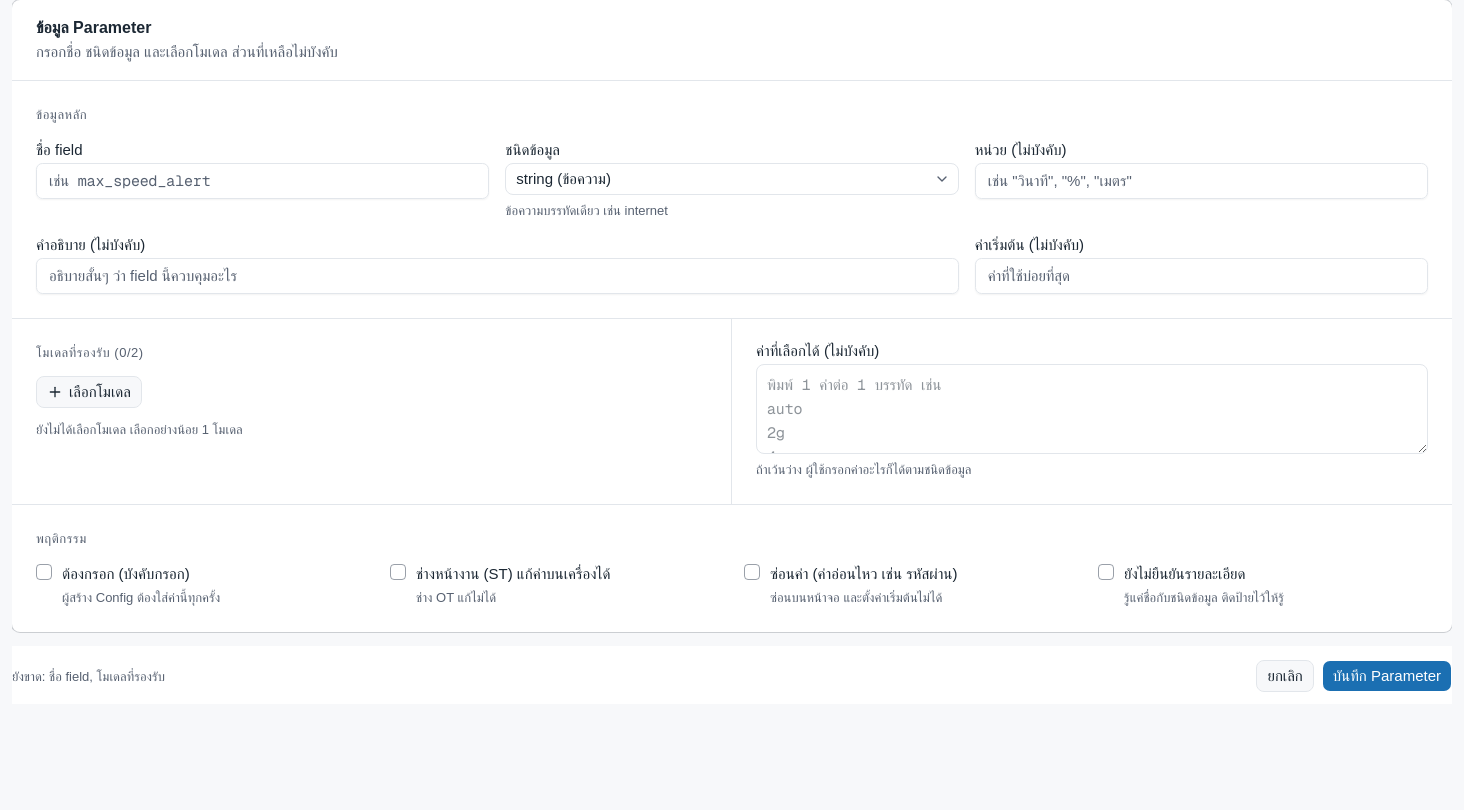
Scenario: ParameterCreateForm › requires at least one model and rejects duplicate names
Type "APN1" into the field labelled "ชื่อ field" at (263, 181), box [36,163,489,199]
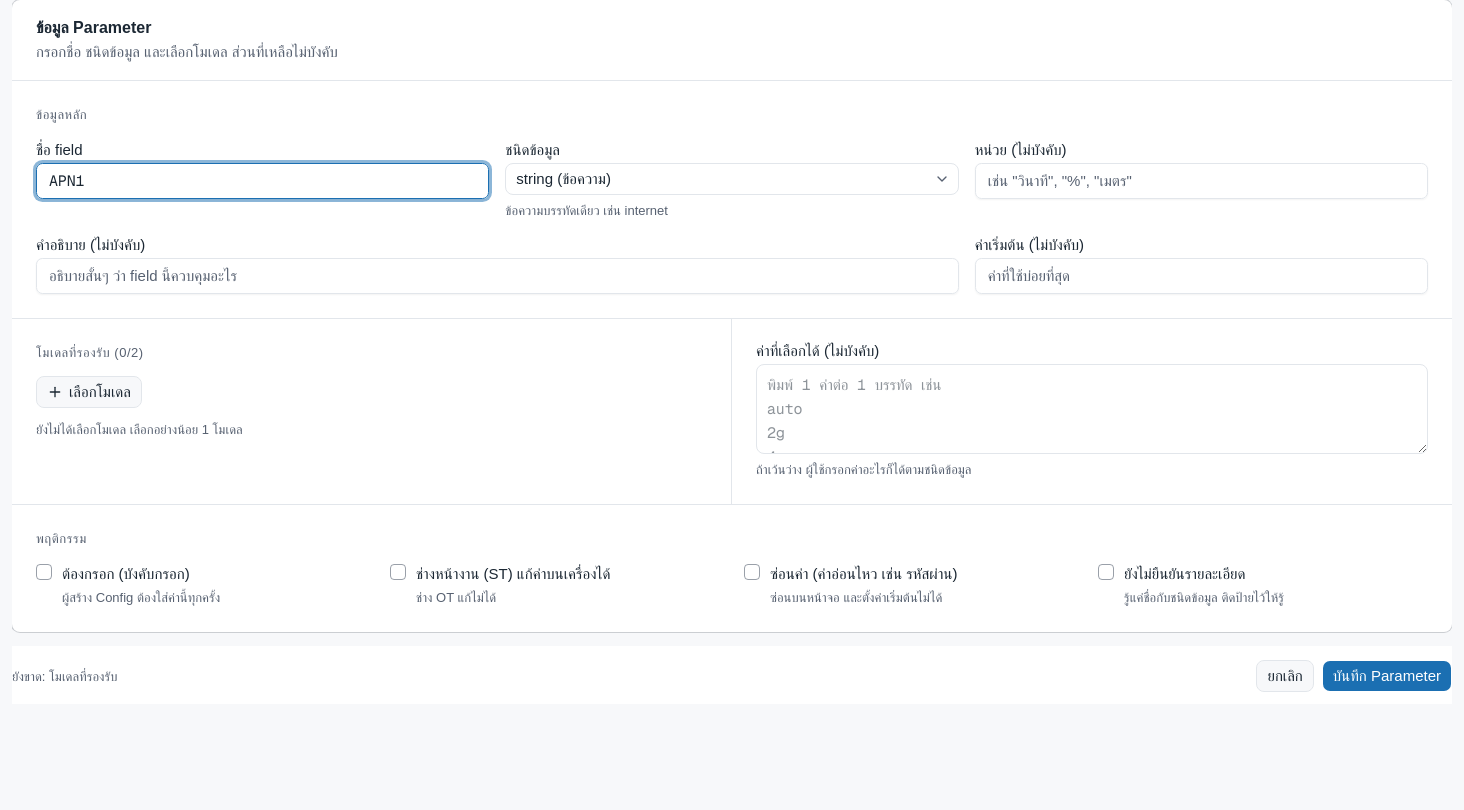
Click the button "บันทึก Parameter" at (1387, 676), box [1322,660,1452,692]
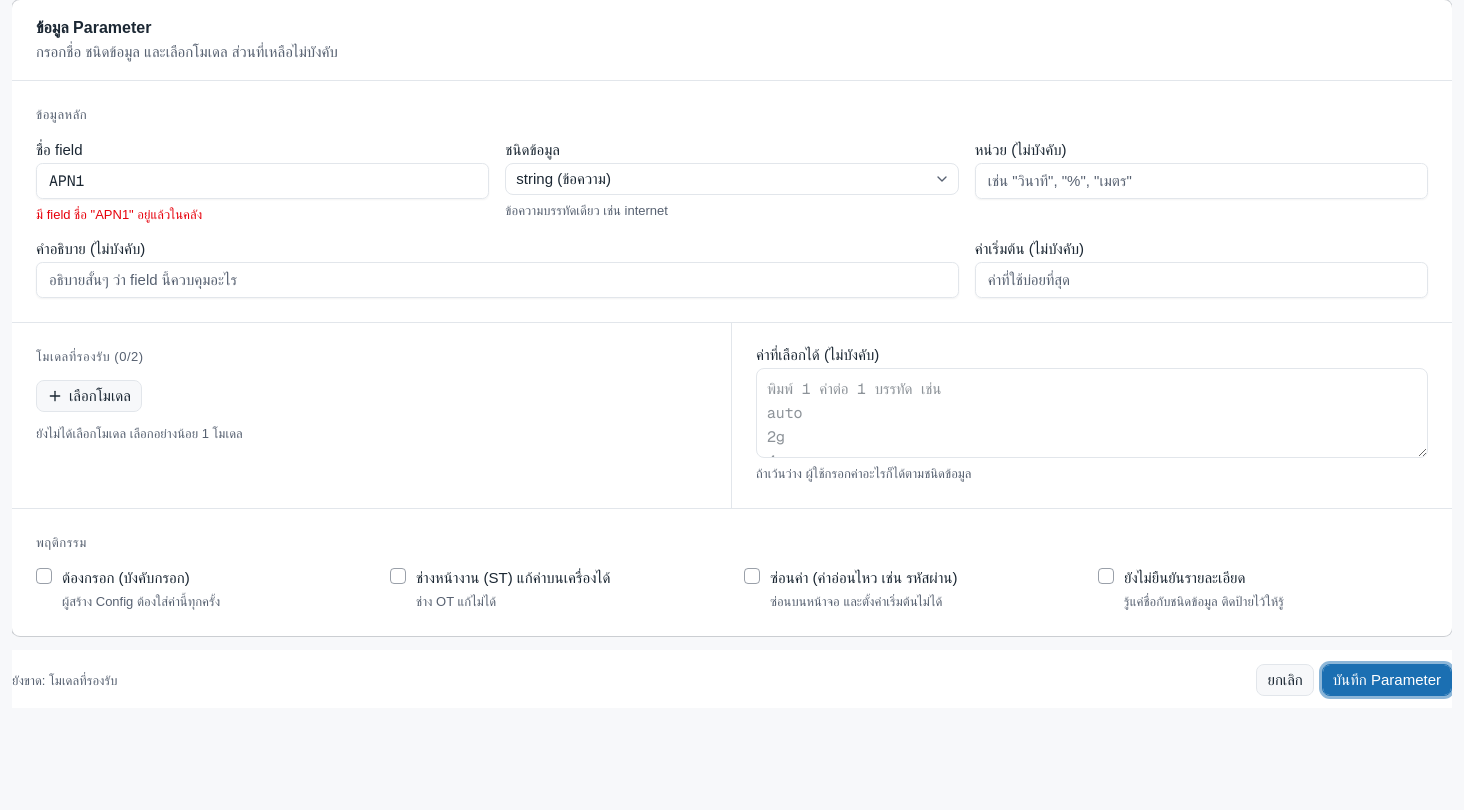
Expected: the text "มี field ชื่อ \"APN1\" อยู่แล้วในคลัง" is shown, [36,207,202,222]
Replace the text in the field labelled "ชื่อ field" with "NEW_FIELD" at (263, 181), box [36,163,489,199]
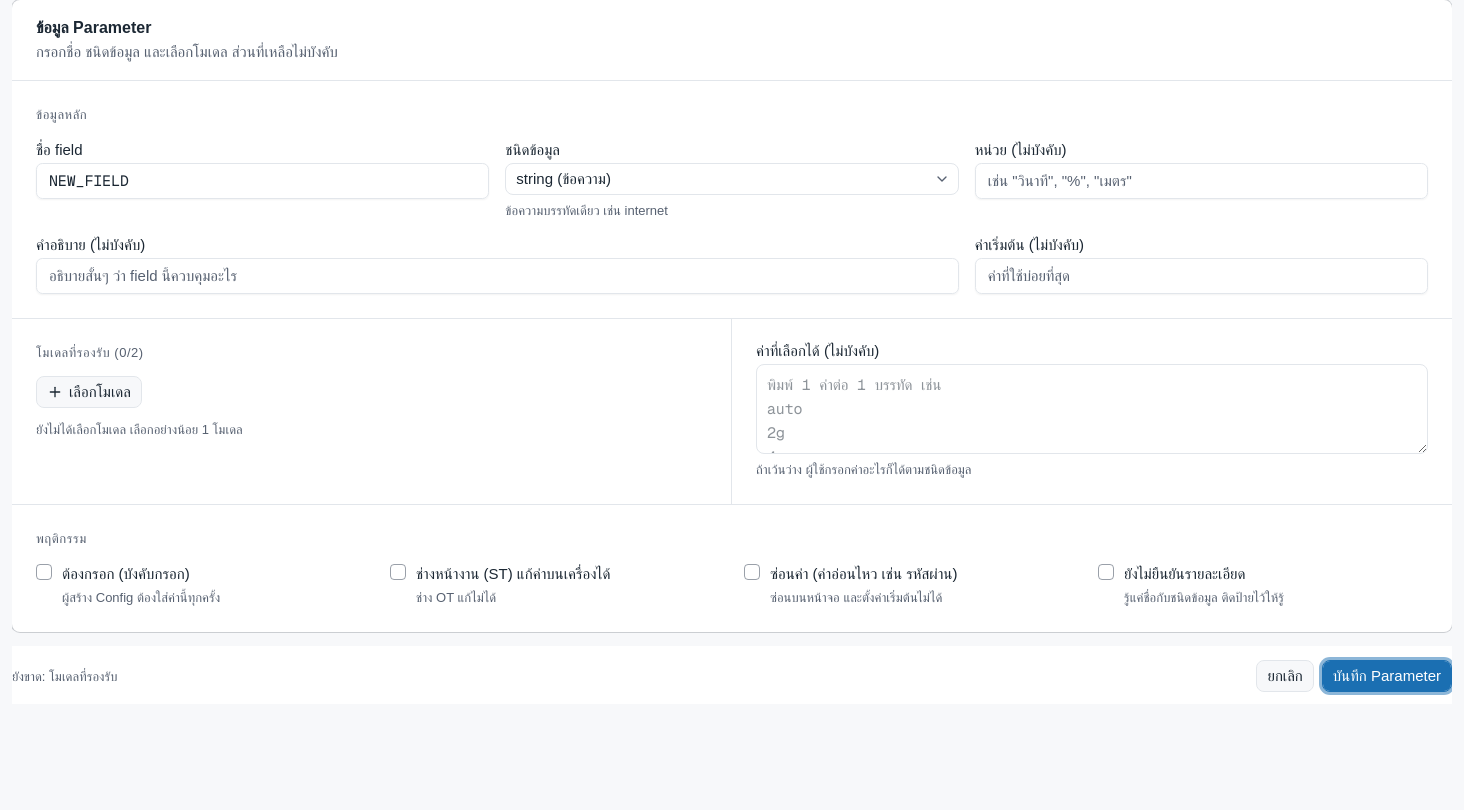
Click the button "บันทึก Parameter" at (1387, 676), box [1322,660,1452,692]
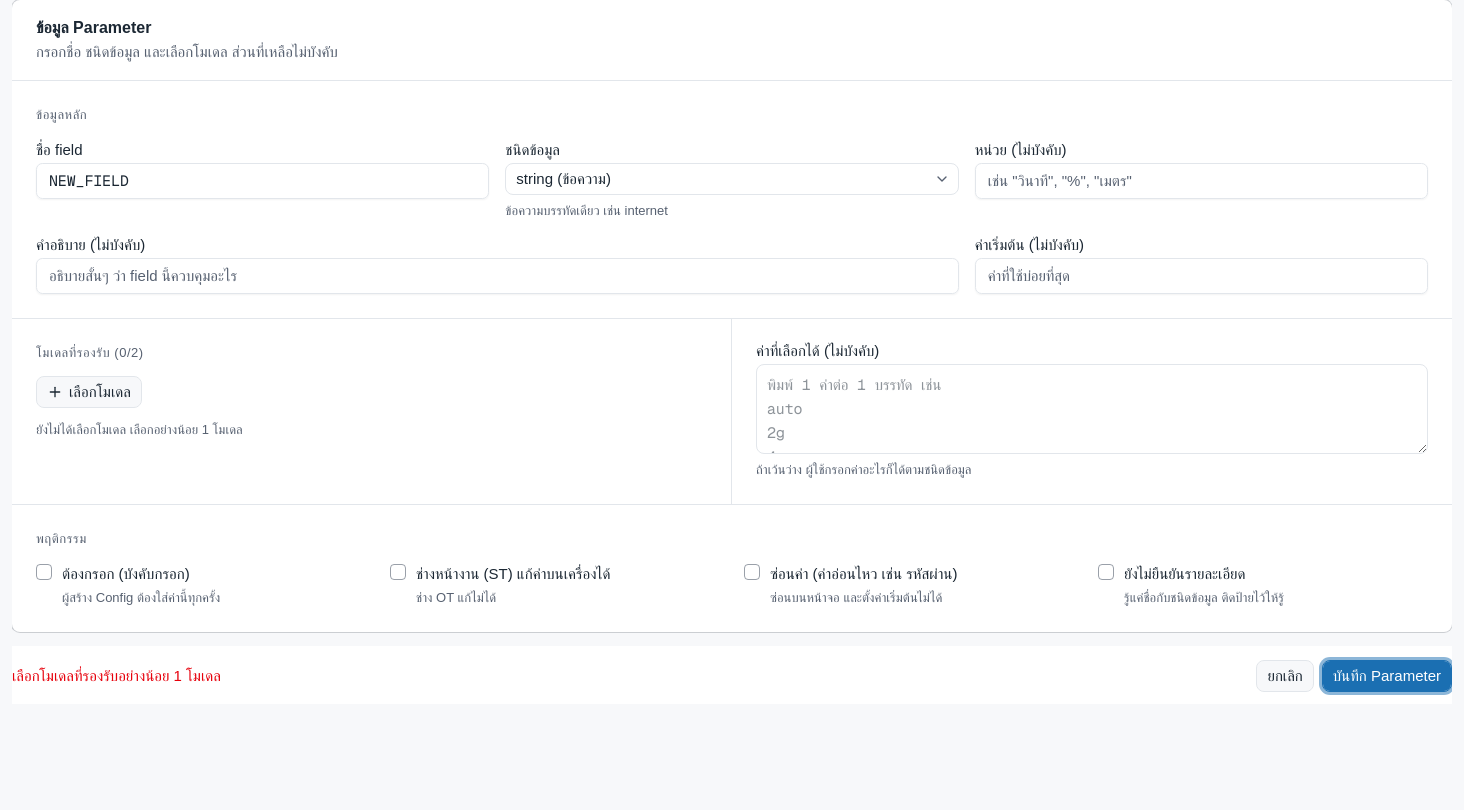
Expected: the message reads "เลือกโมเดลที่รองรับอย่างน้อย 1 โมเดล", [12,667,221,684]
